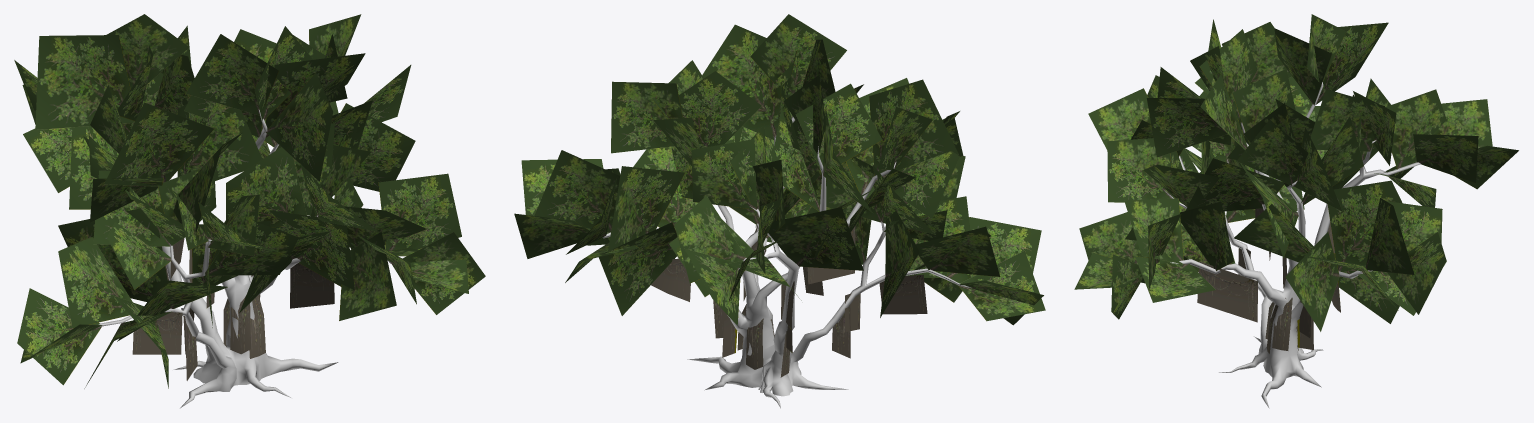
The model's file is JiaYeSiWai1_ShuLv_3.FBX.
3 views of the same model, side by side, from view 1: azimuth 30°, elevation 25°; view 2: azimuth 150°, elevation 25°; view 3: azimuth 270°, elevation 25° (orthographic). The views are drawn at different scales.
Parts seen in each view (by area): view 1: JiaYeSiWai1_ShuLv_3a, JiaYeSiWai1_ShuLv_3b; view 2: JiaYeSiWai1_ShuLv_3a, JiaYeSiWai1_ShuLv_3b; view 3: JiaYeSiWai1_ShuLv_3a, JiaYeSiWai1_ShuLv_3b.
Boxes of the visible parts, x1,y1,x2,y2 form: JiaYeSiWai1_ShuLv_3a: (14,14,485,388); JiaYeSiWai1_ShuLv_3b: (98,110,391,408); JiaYeSiWai1_ShuLv_3a: (514,14,1045,377); JiaYeSiWai1_ShuLv_3b: (602,116,971,408); JiaYeSiWai1_ShuLv_3a: (1074,14,1518,353); JiaYeSiWai1_ShuLv_3b: (1163,82,1421,408).
Size of the model in its own units: 1648 by 1233 by 1513.
